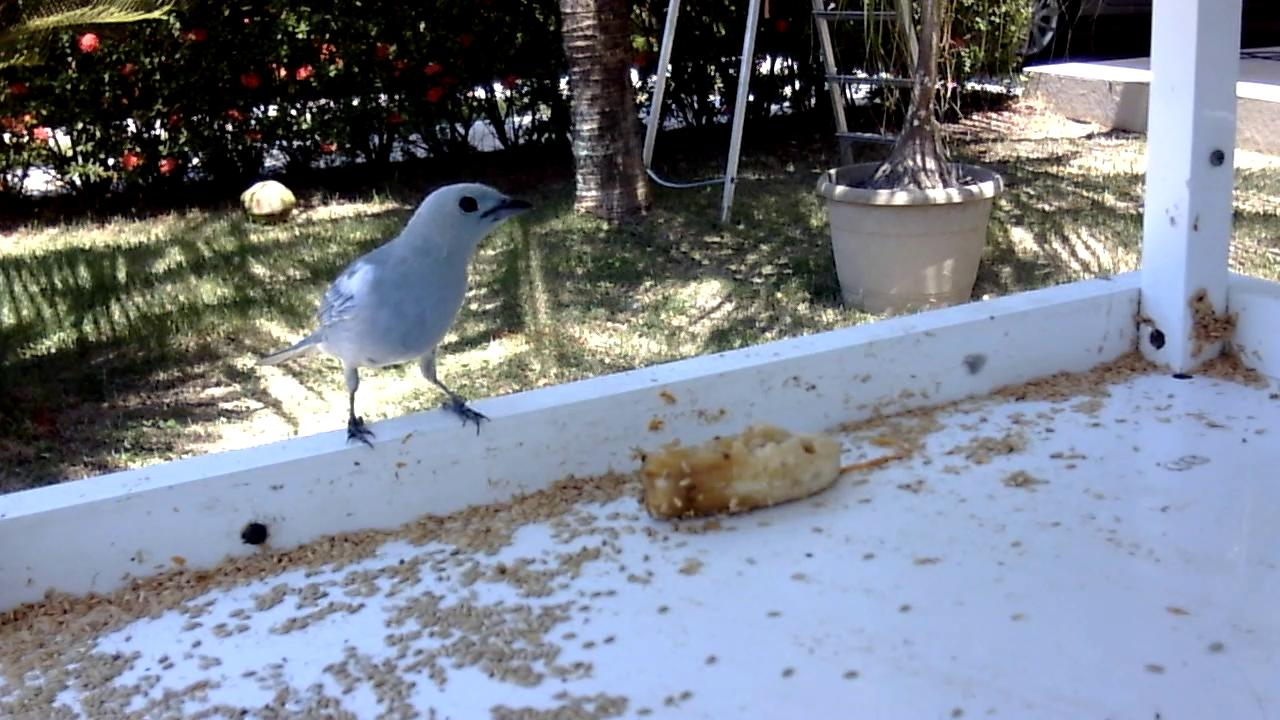sanhaco_da_amazonia: (260, 182, 536, 453)
